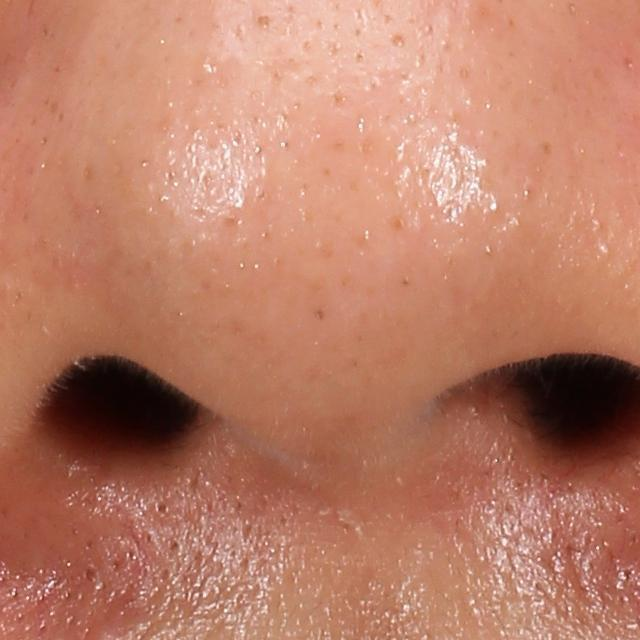comedo: (77, 559, 106, 591), (150, 494, 172, 520)
